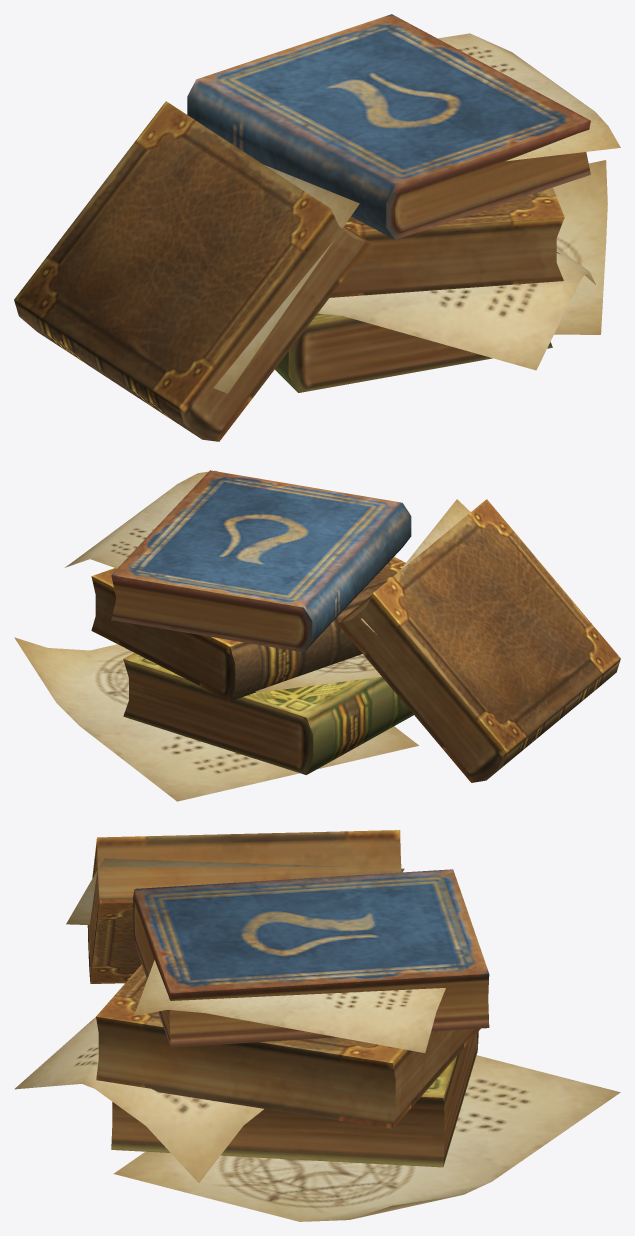
File: Books_Preset_02.FBX
3 views of the same model, one above another, from view 1: azimuth 30°, elevation 25°; view 2: azimuth 150°, elevation 25°; view 3: azimuth 270°, elevation 25° (orthographic). The views are drawn at different scales.
Visible parts, largest first — view 1: Books_Preset_02; view 2: Books_Preset_02; view 3: Books_Preset_02.
Boxes of the visible parts, <box> form: Books_Preset_02: <box>14,14,620,441</box>; Books_Preset_02: <box>14,470,620,801</box>; Books_Preset_02: <box>14,830,620,1221</box>.
Size of the model in its own units: 53.89 by 47.68 by 17.65.
